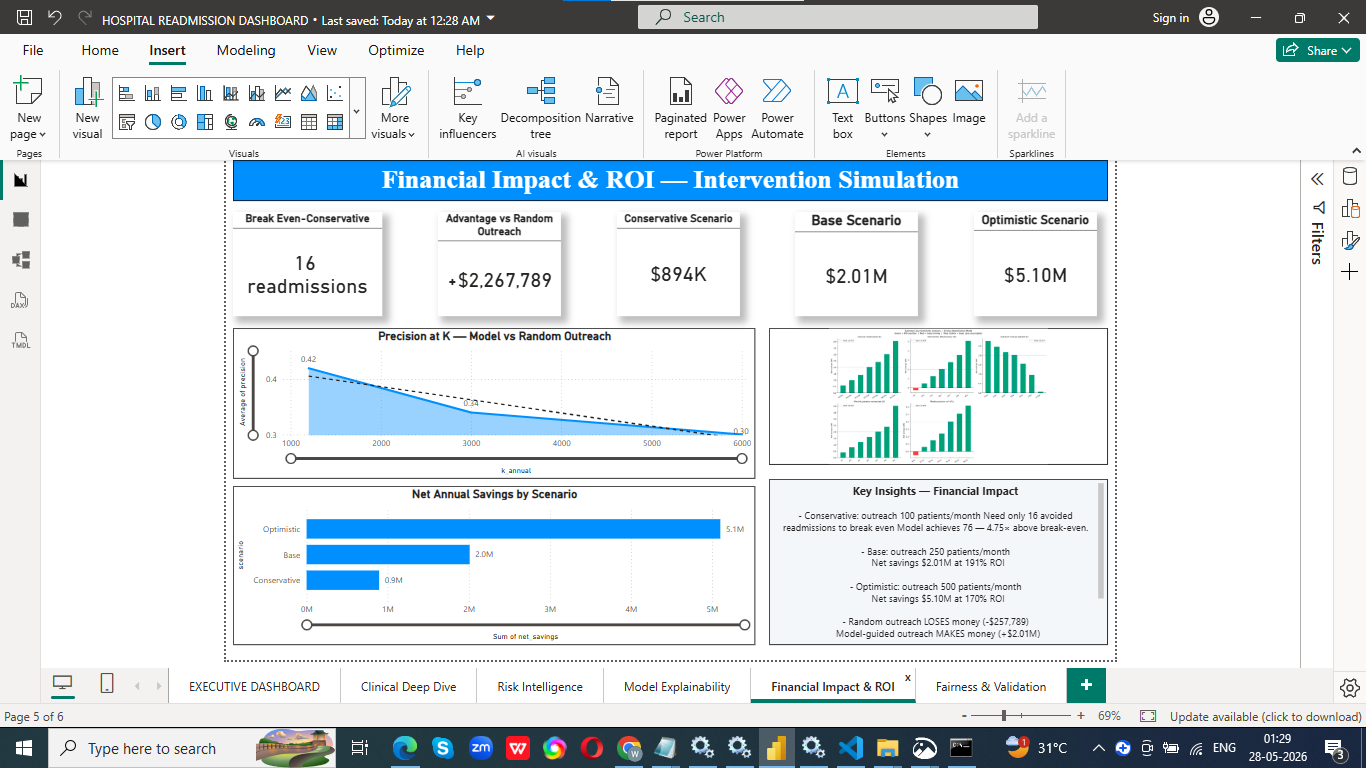

This screenshot's page, from the dashboard's own definition file:
{"tool":"powerbi","page":{"name":"Financial Impact & ROI","canvas":[1280,720],"ordinal":4},"visuals":[{"type":"textbox","box":[10.1,0,1260,59],"z":0},{"type":"clusteredBarChart","title":"Net Annual Savings by Scenario","fields":{"Category":["intervention_scenarios.scenario"],"Y":["Sum(intervention_scenarios.net_savings)"]},"box":[10.1,469.4,751.7,229],"z":1000},{"type":"lineChart","title":"Precision at K — Model vs Random Outreach","fields":{"Category":["intervention_scenarios.k_annual"],"Y":["Avg(intervention_scenarios.precision)"]},"box":[10.1,241.9,751.7,217.4],"z":2000},{"type":"card","title":"Conservative Scenario","fields":{"Values":["intervention_scenarios.Conservative Savings"]},"box":[562.3,74.9,177.1,149.8],"z":3000},{"type":"card","title":"Base Scenario","fields":{"Values":["intervention_scenarios.Base Savings"]},"box":[819.7,74.9,177.1,149.8],"z":4000},{"type":"card","title":"Optimistic Scenario","fields":{"Values":["intervention_scenarios.Optimistic Savings"]},"box":[1077.1,74.9,177.1,149.8],"z":5000},{"type":"card","title":"Advantage vs Random Outreach","fields":{"Values":["intervention_scenarios.Model vs Random"]},"box":[304.9,74.9,177.1,149.8],"z":6000},{"type":"card","title":"Break Even-Conservative","fields":{"Values":["intervention_scenarios.Break Even"]},"box":[10.1,74.9,214.6,149.8],"z":7000},{"type":"textbox","box":[781.9,459.4,488.2,239],"z":8000},{"type":"image","box":[781.9,241.9,488.2,197.3],"z":9000}]}

Visuals, with their boxes on the page's 1280x720 design canvas (x1, y1, x2, y2). These are canvas units, not pixel positions in the 1366x768 screenshot, which may show the page scaled, cropped or inside an application window:
textbox: l=10, t=0, r=1270, b=59
"Net Annual Savings by Scenario" clusteredBarChart: l=10, t=469, r=762, b=698
"Precision at K — Model vs Random Outreach" lineChart: l=10, t=242, r=762, b=459
"Conservative Scenario" card: l=562, t=75, r=739, b=225
"Base Scenario" card: l=820, t=75, r=997, b=225
"Optimistic Scenario" card: l=1077, t=75, r=1254, b=225
"Advantage vs Random Outreach" card: l=305, t=75, r=482, b=225
"Break Even-Conservative" card: l=10, t=75, r=225, b=225
textbox: l=782, t=459, r=1270, b=698
image: l=782, t=242, r=1270, b=439
